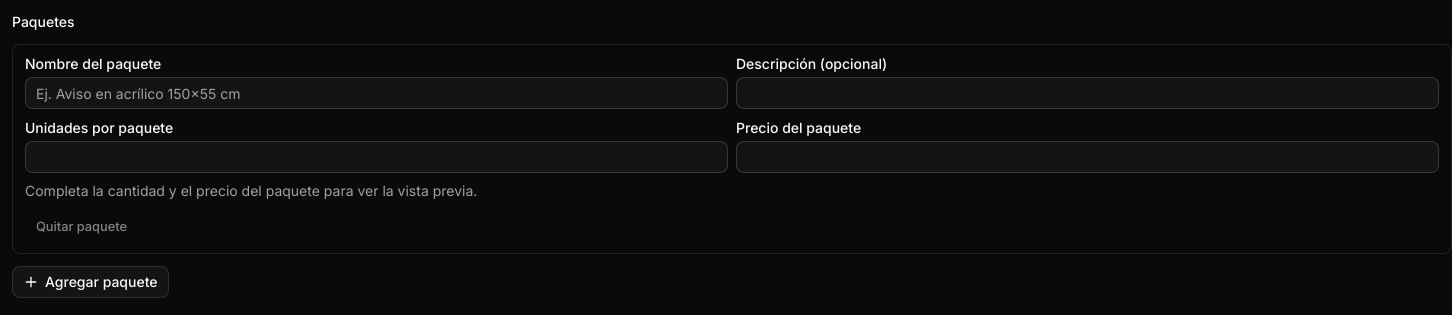
CatalogVariantFields › previews the derived per-unit price for a 'package' mode row
This screenshot has width=1452, height=315.
Type "750" into the field labelled "Unidades por paquete" at (376, 157), box [25,141,728,173]
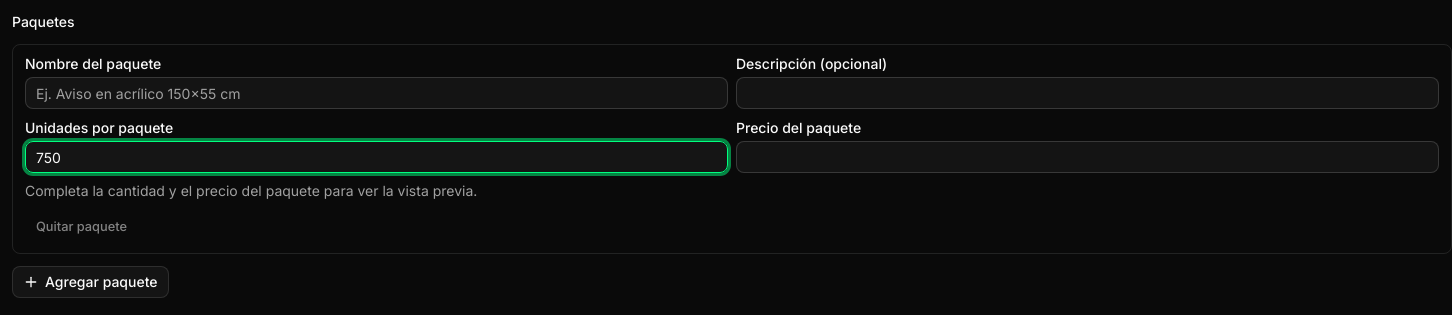
Type "60000" into the field labelled "Precio del paquete" at (1088, 157), box [736,141,1439,173]
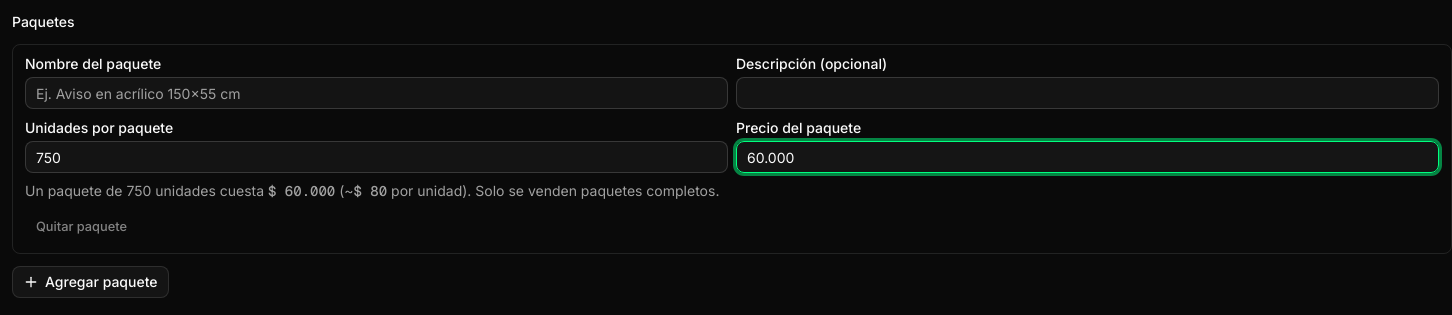
Expected: the text "Un paquete de 750 unidades" shows "Un paquete de 750 unidades cuesta $ 60.000 (~$ 80 por unidad). Solo se venden paquetes completos.", [25,182,719,200]
